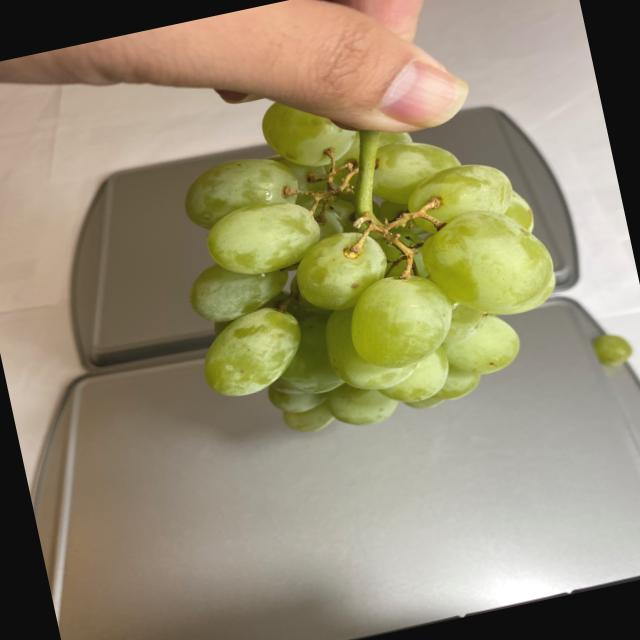grapes: (147, 49, 582, 463)
